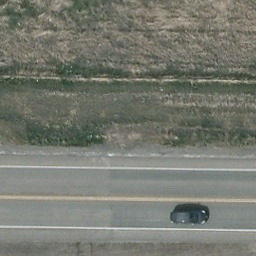car: (169, 210, 209, 225)
